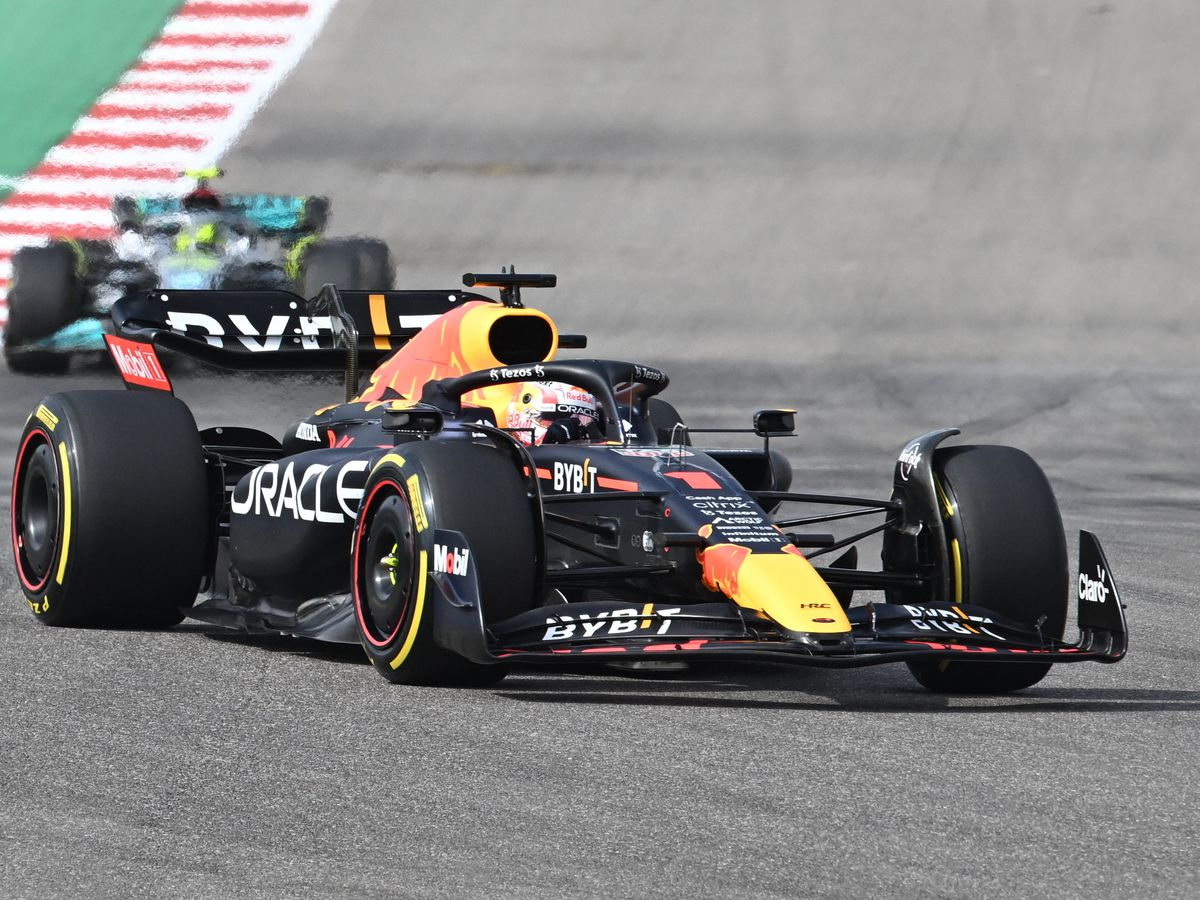Formule 1: (10, 290, 1123, 690), (14, 194, 394, 368)
